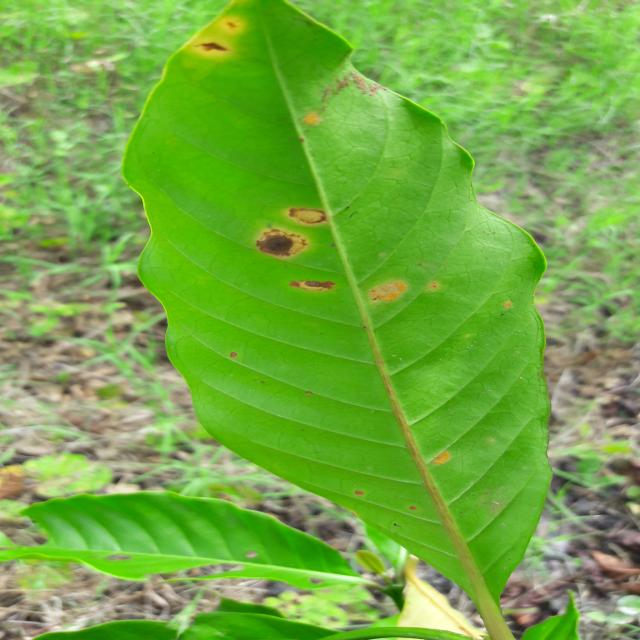Enfermedad-Roya: (121, 0, 553, 640)
